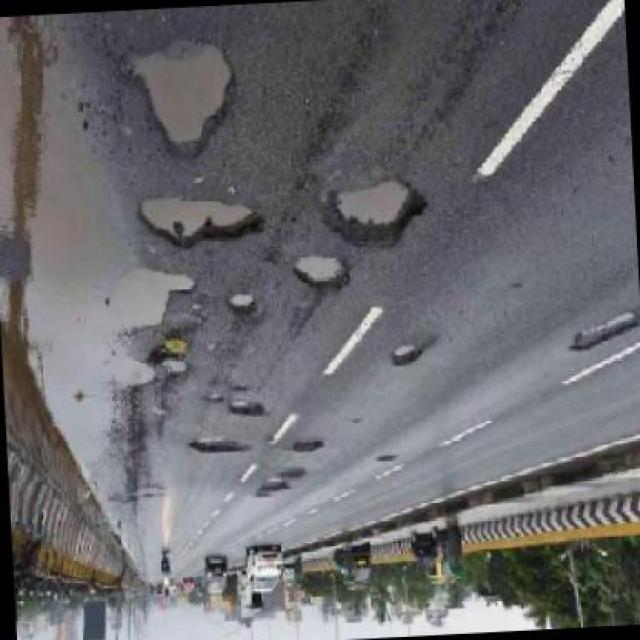pothole1: (122, 41, 240, 165), (136, 190, 266, 255), (322, 178, 428, 253), (118, 269, 200, 337), (568, 310, 638, 358), (292, 253, 350, 298), (253, 464, 309, 505), (189, 435, 248, 459), (390, 340, 424, 369), (226, 398, 262, 419), (292, 436, 326, 458), (227, 293, 256, 316)
